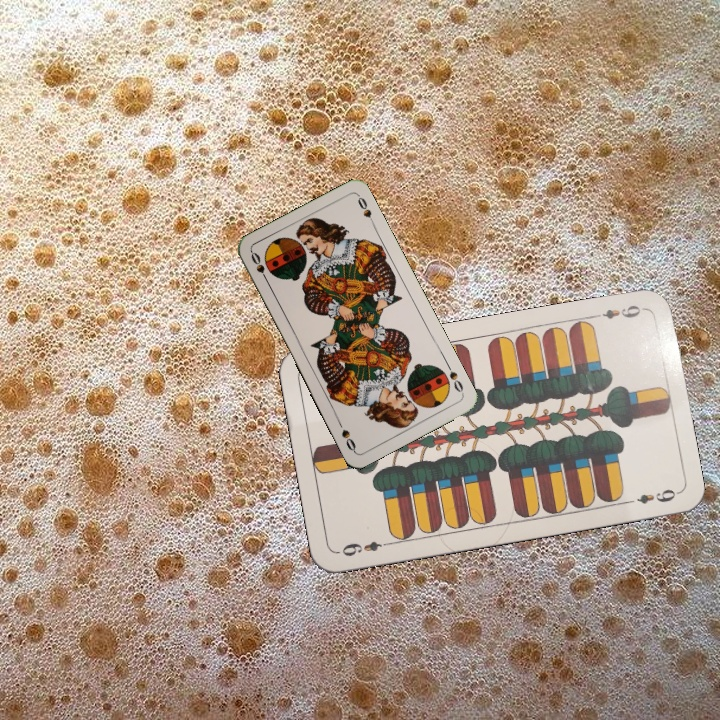E9: (335, 537, 394, 559), (588, 301, 647, 322)
SO: (247, 248, 272, 286), (442, 359, 466, 397)
